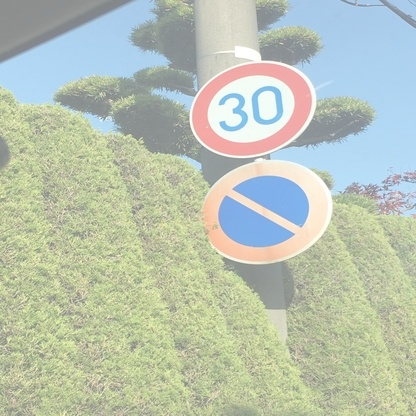Prohibition_sign: (195, 154, 344, 262)
Speed_sign: (186, 54, 325, 163)
